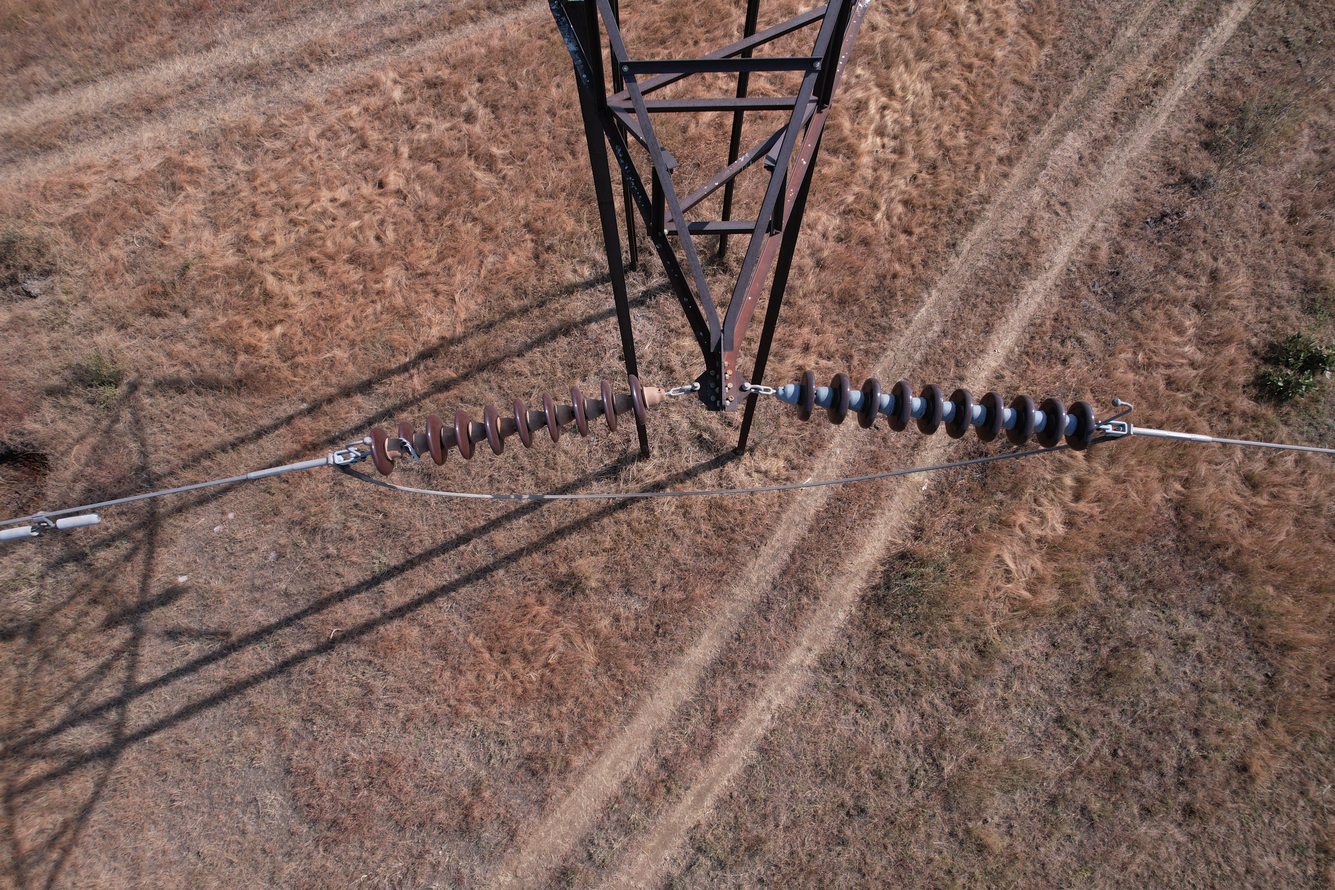broken_insulator: (395, 415, 425, 471)
